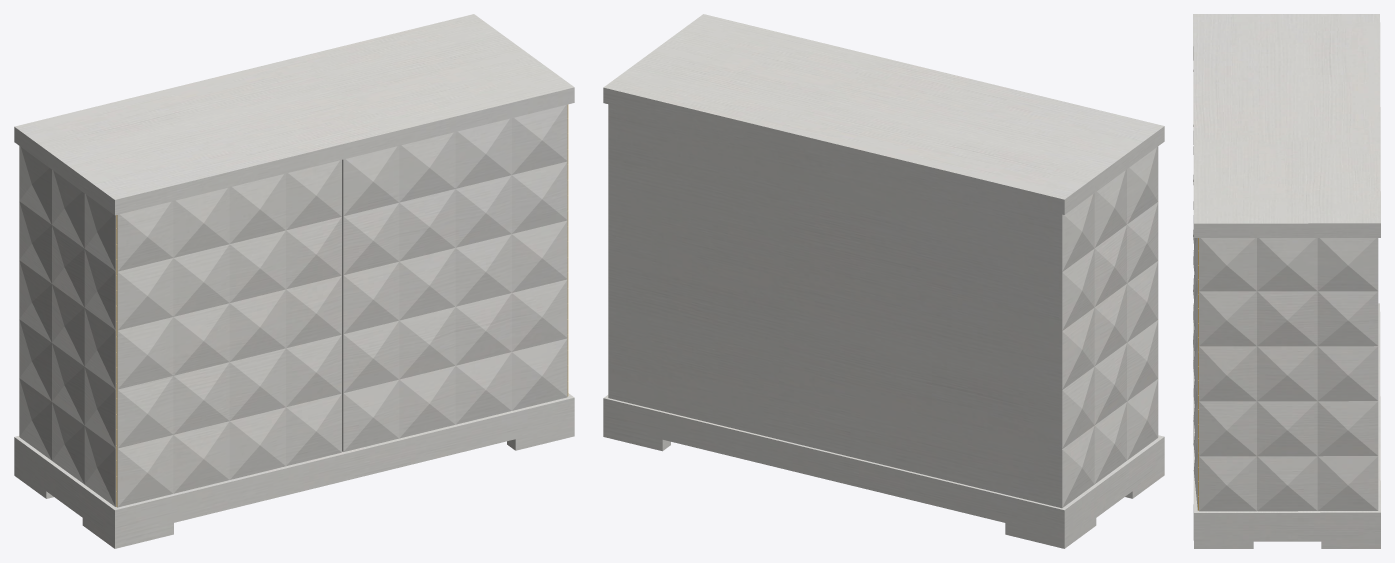
File: Locker baker diamond chest N150122.obj
The picture shows the model from 3 angles, left to right: view 1: azimuth 30°, elevation 25°; view 2: azimuth 150°, elevation 25°; view 3: azimuth 270°, elevation 25°; orthographic projection. The views are drawn at different scales.
Parts seen in each view (by area): view 1: konsol; view 2: konsol; view 3: konsol, Circle021.
Part boxes in pixels (x1,y1,x2,y2): konsol: (14,14,574,548); konsol: (603,14,1164,548); konsol: (1193,14,1380,548); Circle021: (1198,238,1198,510).
Size of the model in its own units: 12458 by 9020 by 4721.
